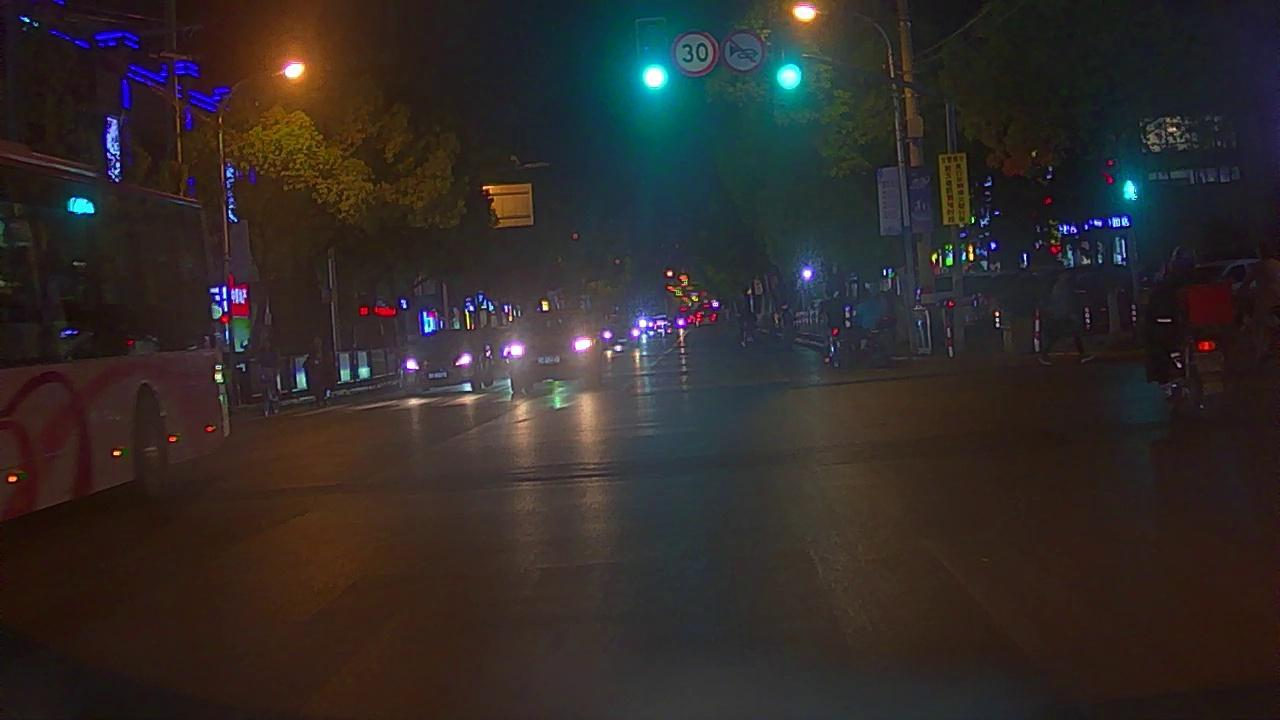traffic_light: (636, 58, 673, 93), (772, 59, 807, 93)
